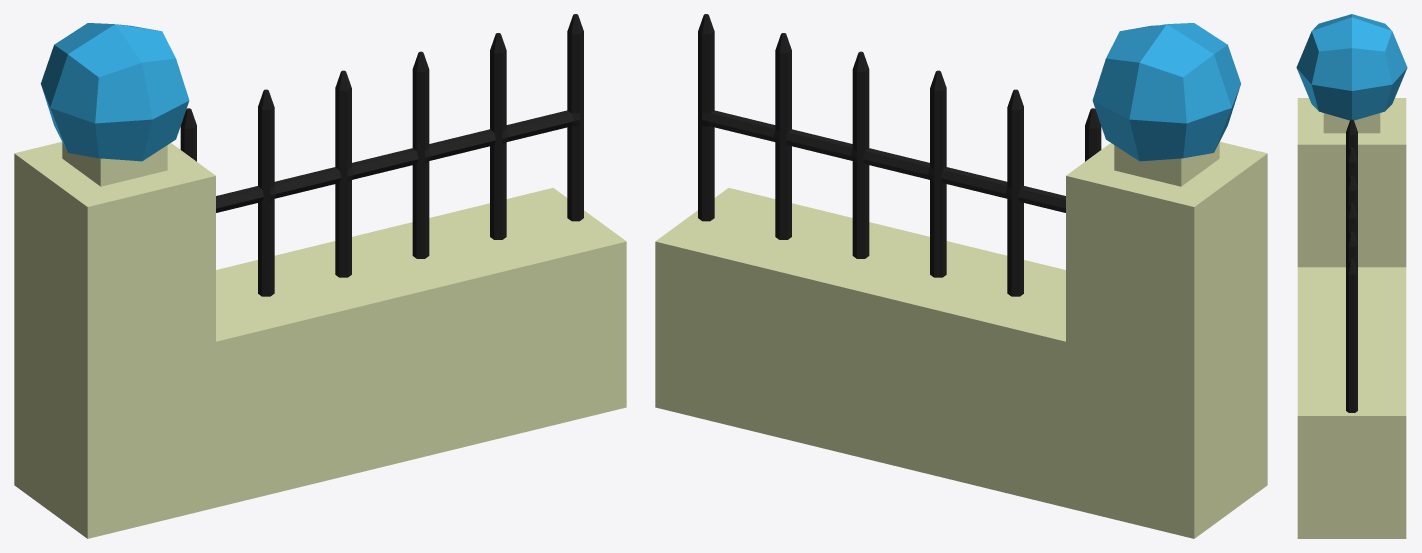
File: Wall.fbx
3 views of the same model, side by side, from view 1: azimuth 30°, elevation 25°; view 2: azimuth 150°, elevation 25°; view 3: azimuth 270°, elevation 25° (orthographic). The views are drawn at different scales.
Parts seen in each view (by area): view 1: Cube.005, Cylinder, Cube.006, Cylinder.001; view 2: Cube.005, Cylinder, Cube.006, Cylinder.001; view 3: Cube.005, Cube.006, Cylinder.001, Cylinder.
Part boxes in pixels (x1,y1,x2,y2): Cube.005: (14, 141, 626, 538); Cylinder: (180, 33, 573, 296); Cube.006: (40, 23, 189, 161); Cylinder.001: (567, 14, 583, 221); Cube.005: (655, 141, 1267, 538); Cylinder: (708, 33, 1101, 296); Cube.006: (1092, 23, 1241, 161); Cylinder.001: (698, 14, 714, 221); Cube.005: (1297, 98, 1406, 538); Cube.006: (1296, 14, 1407, 120); Cylinder.001: (1346, 259, 1357, 412); Cylinder: (1346, 119, 1357, 271).
Size of the model in its own units: 340 by 285 by 81.9.
